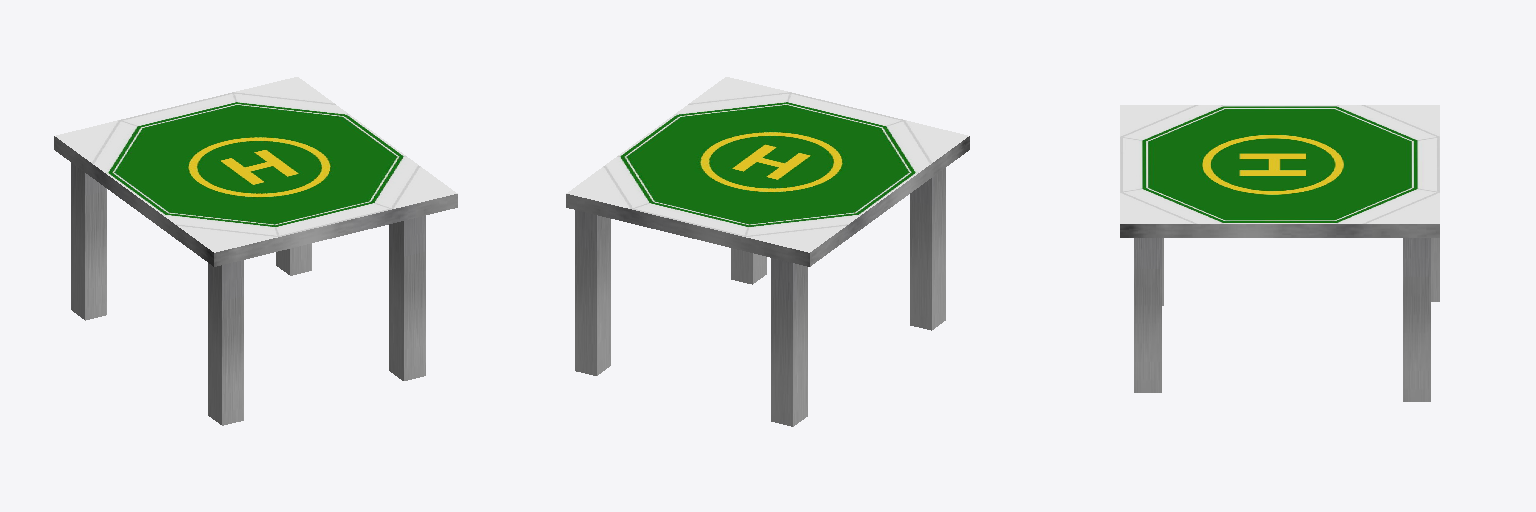
3 views of the same model, side by side, from view 1: azimuth 30°, elevation 25°; view 2: azimuth 150°, elevation 25°; view 3: azimuth 270°, elevation 25° (orthographic).
Parts seen in each view (by area): view 1: Cube_Cube.001, Cube.004_Cube.005, Cube.003_Cube.004, Cube.002_Cube.003, Cube.001_Cube.002; view 2: Cube_Cube.001, Cube.002_Cube.003, Cube.001_Cube.002, Cube.003_Cube.004, Cube.004_Cube.005; view 3: Cube_Cube.001, Cube.001_Cube.002, Cube.004_Cube.005, Cube.002_Cube.003.
Boxes of the visible parts, <box> form: Cube_Cube.001: <box>54,77,457,266</box>; Cube.004_Cube.005: <box>389,216,425,380</box>; Cube.003_Cube.004: <box>208,260,243,425</box>; Cube.002_Cube.003: <box>71,163,106,320</box>; Cube.001_Cube.002: <box>276,243,311,275</box>; Cube_Cube.001: <box>566,77,969,266</box>; Cube.002_Cube.003: <box>771,258,807,426</box>; Cube.001_Cube.002: <box>575,210,610,375</box>; Cube.003_Cube.004: <box>910,168,945,330</box>; Cube.004_Cube.005: <box>731,248,766,284</box>; Cube_Cube.001: <box>1120,105,1439,237</box>; Cube.001_Cube.002: <box>1403,238,1430,401</box>; Cube.004_Cube.005: <box>1134,238,1161,392</box>; Cube.002_Cube.003: <box>1431,238,1439,301</box>.
Size of the model in its own units: 8.92 by 6.39 by 10.15.
Materials: 6 (2 with a texture image).